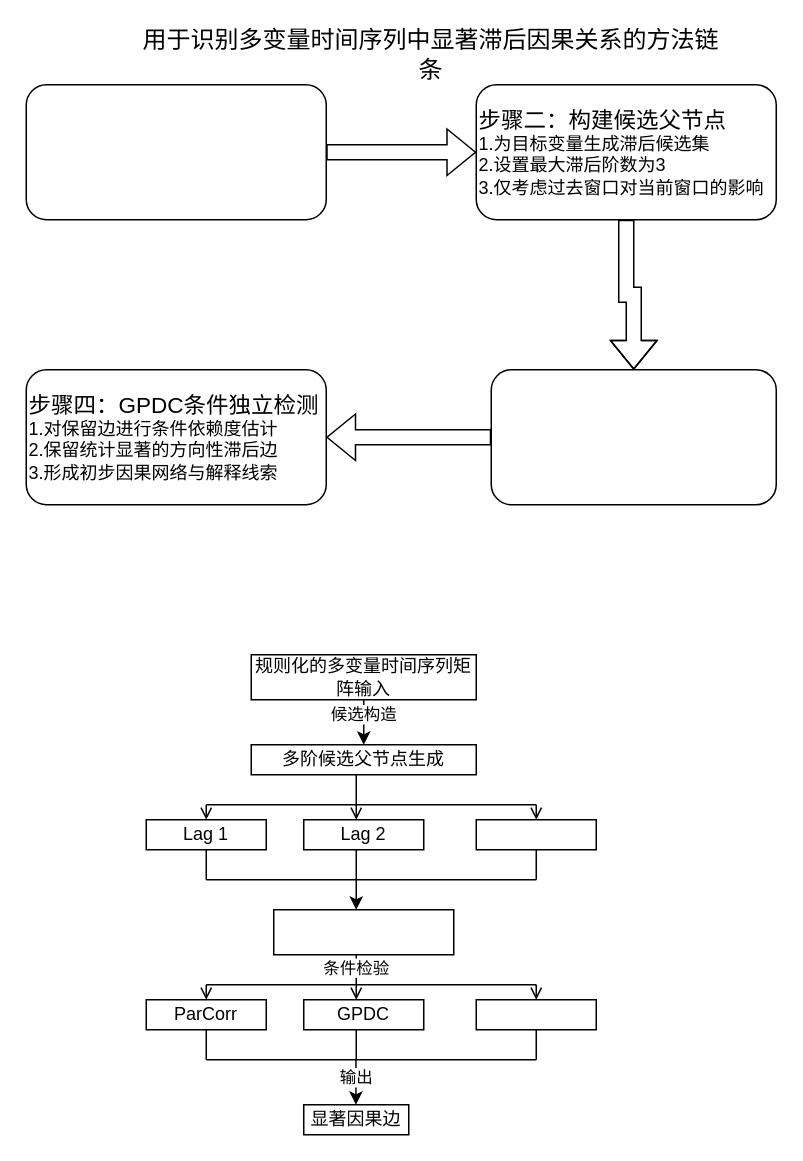
This 803x1161 diagram has some shape labels left out. The box of each missing label's shape, as (x1, y1, x2, y2) in pixels:
Lag 3: (475, 818, 596, 850)
PCMCI 两阶段筛选: (272, 908, 454, 955)
显著性判断: (475, 998, 596, 1030)
步骤一：输入时序数据 1.规则多变的时间序列 2.包含X1—X7等核心变量 3.每个观测点对应统一时间窗: (25, 83, 326, 220)
步骤三：PCMCI筛选 1.PC阶段压缩侯选边集合 2.MCI阶段进行条件检验 3.删除弱相关和冗余关系: (490, 368, 776, 505)
